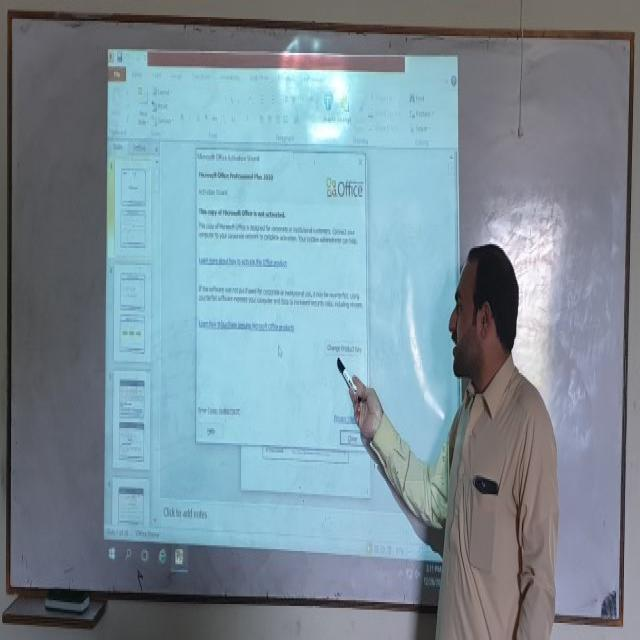Instructor: (428, 214, 562, 638)
Slide: (105, 46, 463, 602)
White-board: (8, 15, 634, 625)
